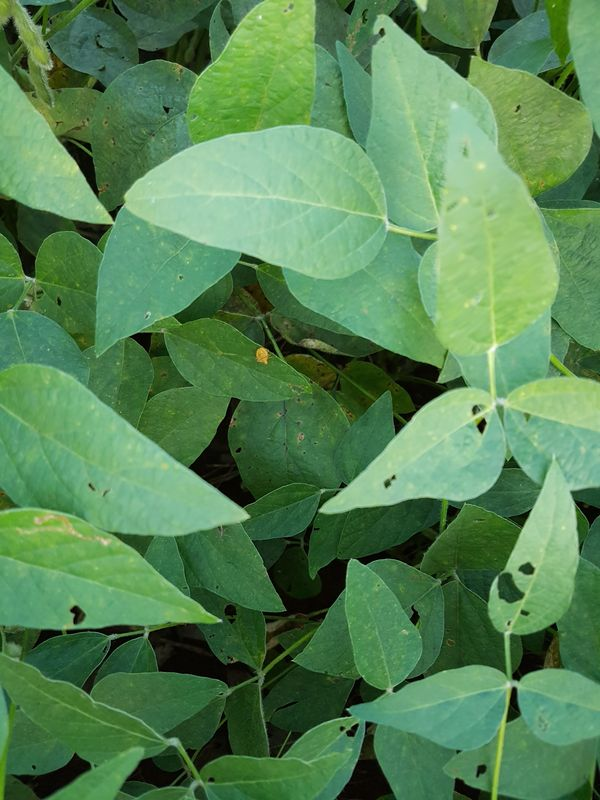Euschistus_heros_ninfa: (251, 343, 276, 370)
